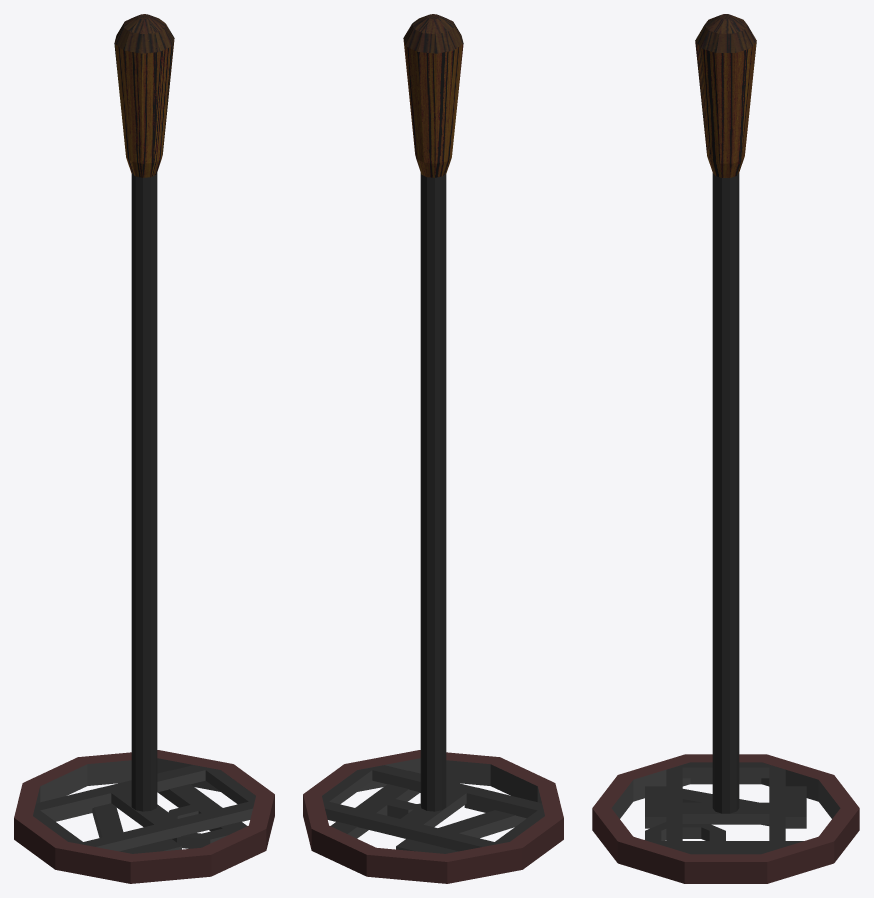
Rendered from BrandingIron.fbx.
3 views of the same model, side by side, from view 1: azimuth 30°, elevation 25°; view 2: azimuth 150°, elevation 25°; view 3: azimuth 270°, elevation 25° (orthographic).
Parts seen in each view (by area): view 1: ZomboidBrandingIron; view 2: ZomboidBrandingIron; view 3: ZomboidBrandingIron.
Part boxes in pixels (x1=…): ZomboidBrandingIron: x1=14, y1=14, x2=274, y2=883; ZomboidBrandingIron: x1=303, y1=14, x2=563, y2=883; ZomboidBrandingIron: x1=592, y1=14, x2=859, y2=883.
Size of the model in its own units: 0.1218 by 0.4296 by 0.128.
